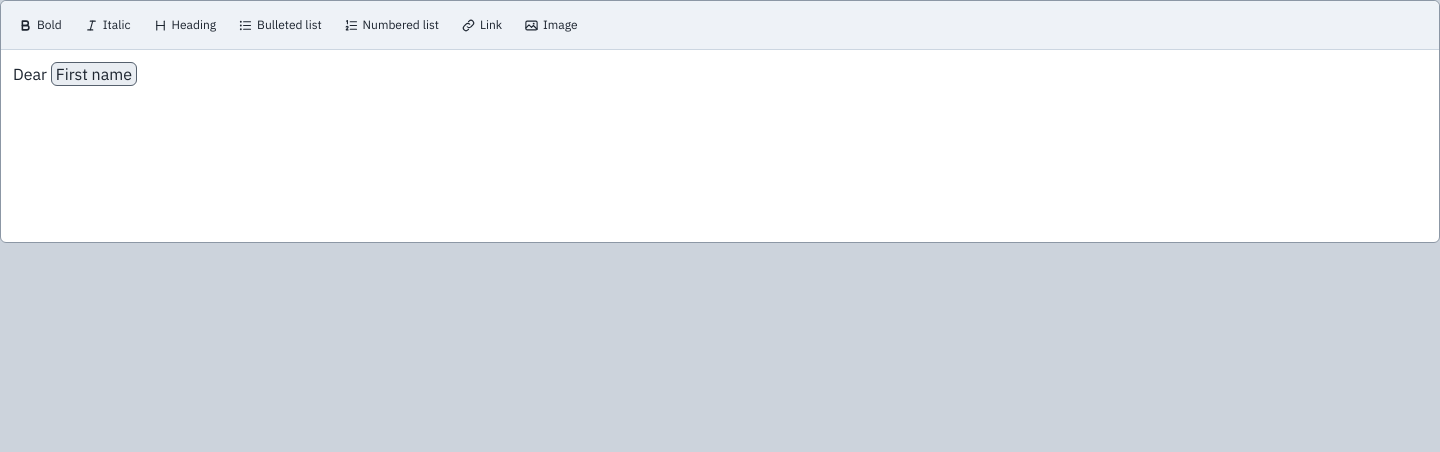
Test: RichTextEditor field panel › opens the panel on Enter with the chip selected
Expected: the text "First name" is shown, [51,62,137,86]
Click the field named "Message".
click(75, 74)  # box [13,62,137,86]
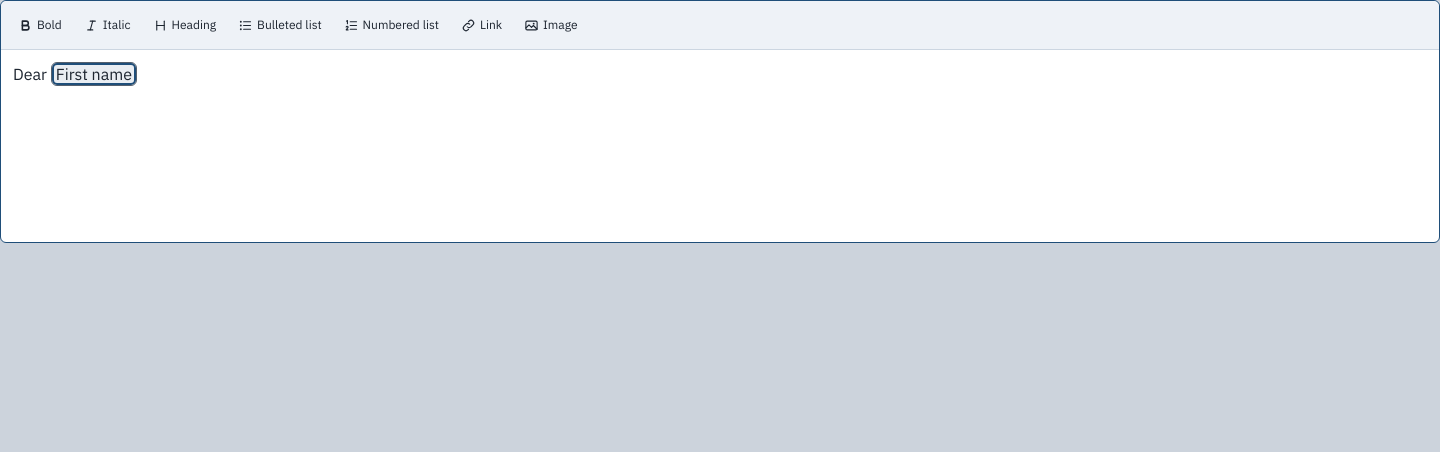
Press Enter
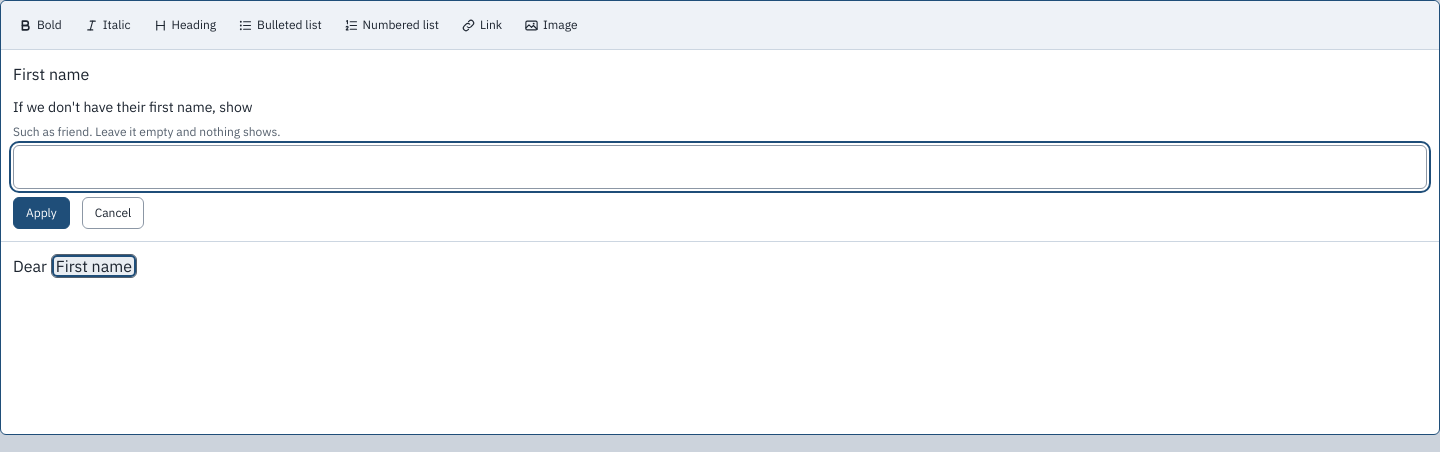
Result: the element named "First name field" is shown at [1,50,1439,242]
